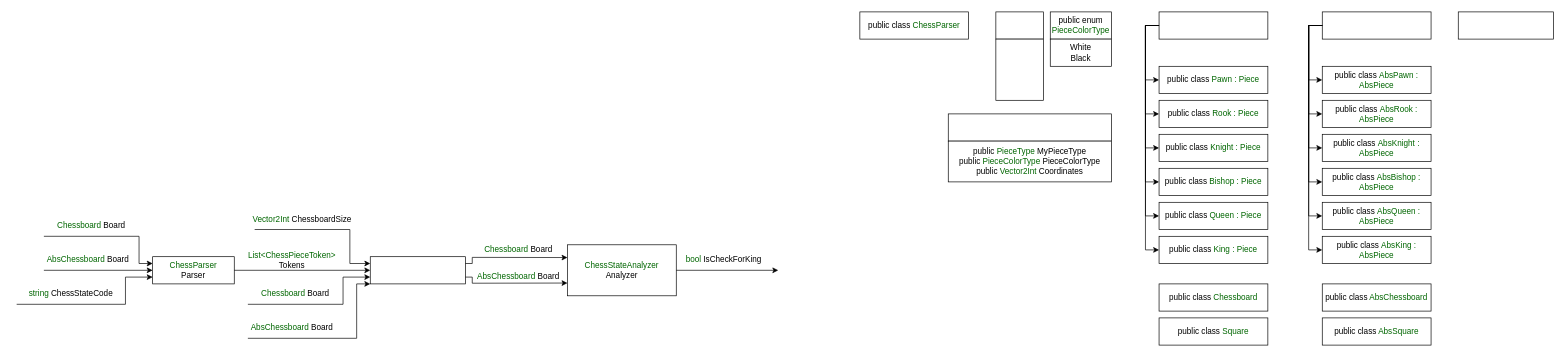
This 1565x357 diagram has some shape labels left out. Each missing label, with the box of its shape:
ChessStateRecreator Recreator: (370, 256, 465, 284)
Pawn Rook Knight Bishop Queen King: (995, 38, 1043, 100)
public abstract class AbsPiece: (1322, 11, 1431, 39)
public abstract class Piece: (1158, 11, 1268, 39)
public class ChessPieceToken: (948, 113, 1111, 141)
public class ChessStateRecreator: (1458, 11, 1553, 39)
public enum PieceType: (995, 11, 1043, 39)
